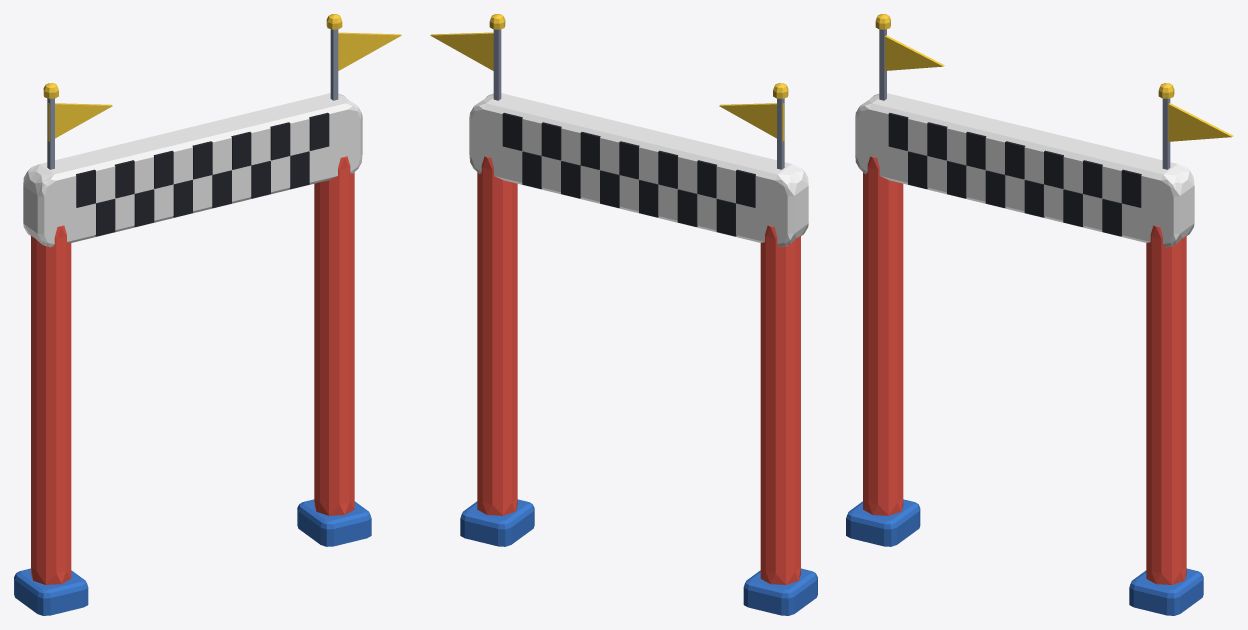
The model's file is prop_arch.glb.
3 views of the same model, side by side, from view 1: azimuth 30°, elevation 25°; view 2: azimuth 150°, elevation 25°; view 3: azimuth 330°, elevation 25° (orthographic).
Visible parts, largest first — view 1: legs, banner, checks, main, flags, flagpoles; view 2: legs, banner, checks, main, flags, flagpoles; view 3: legs, banner, checks, main, flags, flagpoles.
Part boxes in pixels (x1,y1,x2,y2): legs: [31, 156, 354, 584]; banner: [23, 93, 362, 247]; checks: [76, 112, 329, 236]; main: [14, 499, 371, 615]; flags: [47, 32, 401, 141]; flagpoles: [47, 29, 338, 169]; legs: [477, 156, 800, 584]; banner: [469, 93, 808, 247]; checks: [502, 112, 755, 236]; main: [460, 499, 817, 615]; flags: [430, 32, 784, 141]; flagpoles: [493, 29, 784, 169]; legs: [863, 156, 1186, 584]; banner: [855, 93, 1194, 247]; checks: [888, 113, 1141, 236]; main: [846, 499, 1203, 615]; flags: [885, 35, 1233, 141]; flagpoles: [879, 29, 1170, 169].
Size of the model in its own units: 0.7606 by 1 by 0.1127.
